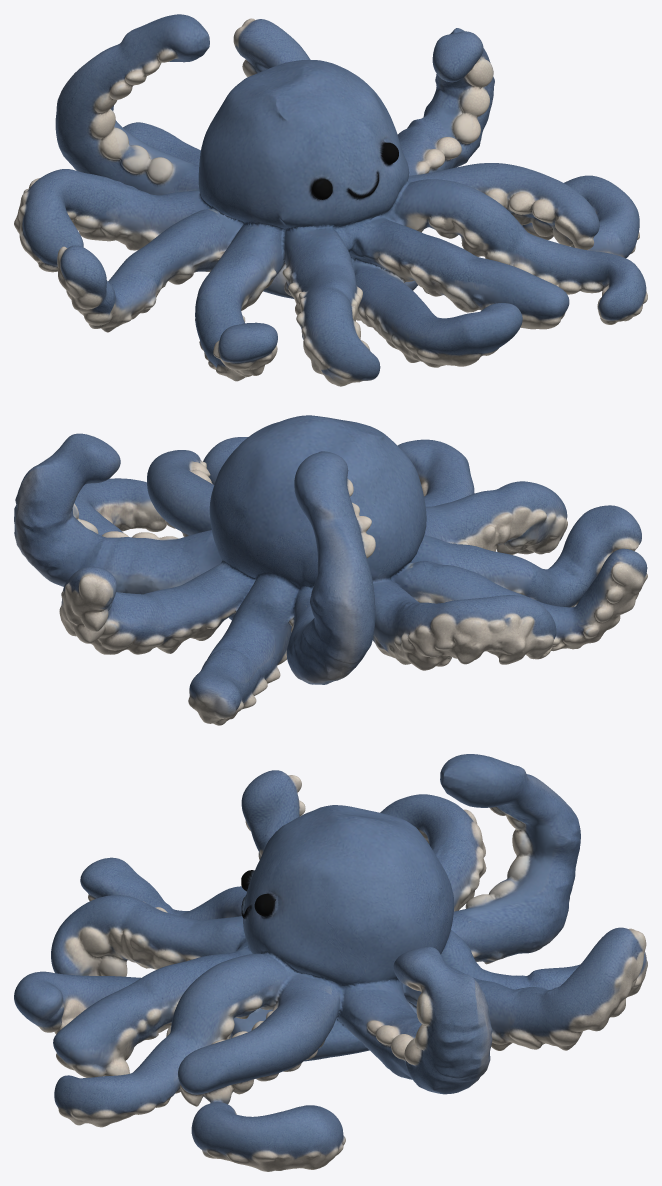
Rendered from octopus.glb.
3 renders of one model, top to bottom at view 1: azimuth 30°, elevation 25°; view 2: azimuth 150°, elevation 25°; view 3: azimuth 270°, elevation 25°, orthographic. The views are drawn at different scales.
Bounding box in the file's own units: 1.9 × 0.7532 × 1.74.
Materials: 1 (1 with a texture image).
